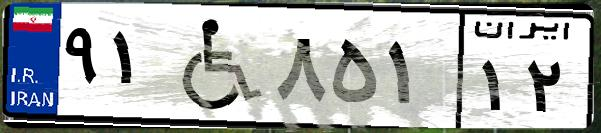1: (385, 28, 445, 110), (475, 38, 525, 113), (110, 28, 158, 98)
2: (525, 38, 570, 115)
5: (330, 28, 385, 110)
8: (270, 28, 330, 110)
9: (57, 26, 110, 100)
ژ (معلولین و جانبازان): (158, 12, 270, 120)
